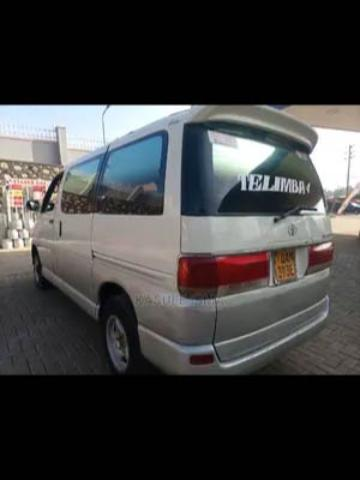van: (25, 105, 331, 370)
